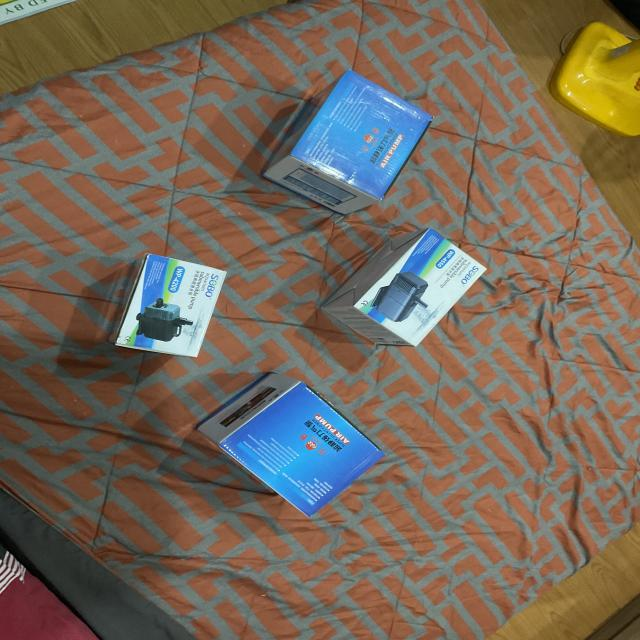SOBO_WP_4200: (318, 222, 497, 352), (97, 243, 232, 370)
YAMANO_LPP_20: (195, 363, 389, 529), (259, 72, 438, 218)
